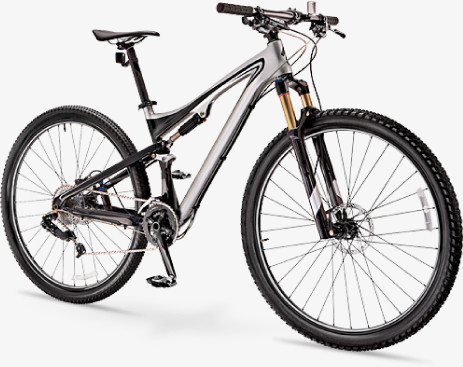MNV: (1, 3, 462, 351)
